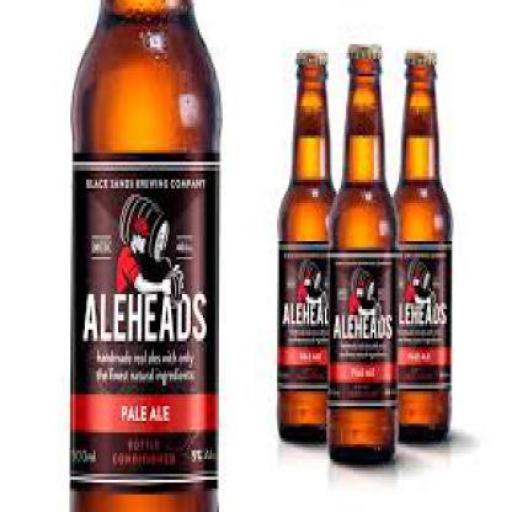glass: (71, 0, 217, 510), (326, 62, 394, 462), (276, 56, 337, 439), (390, 59, 448, 436)
metal: (346, 39, 378, 56), (404, 44, 434, 62), (294, 50, 326, 64)
